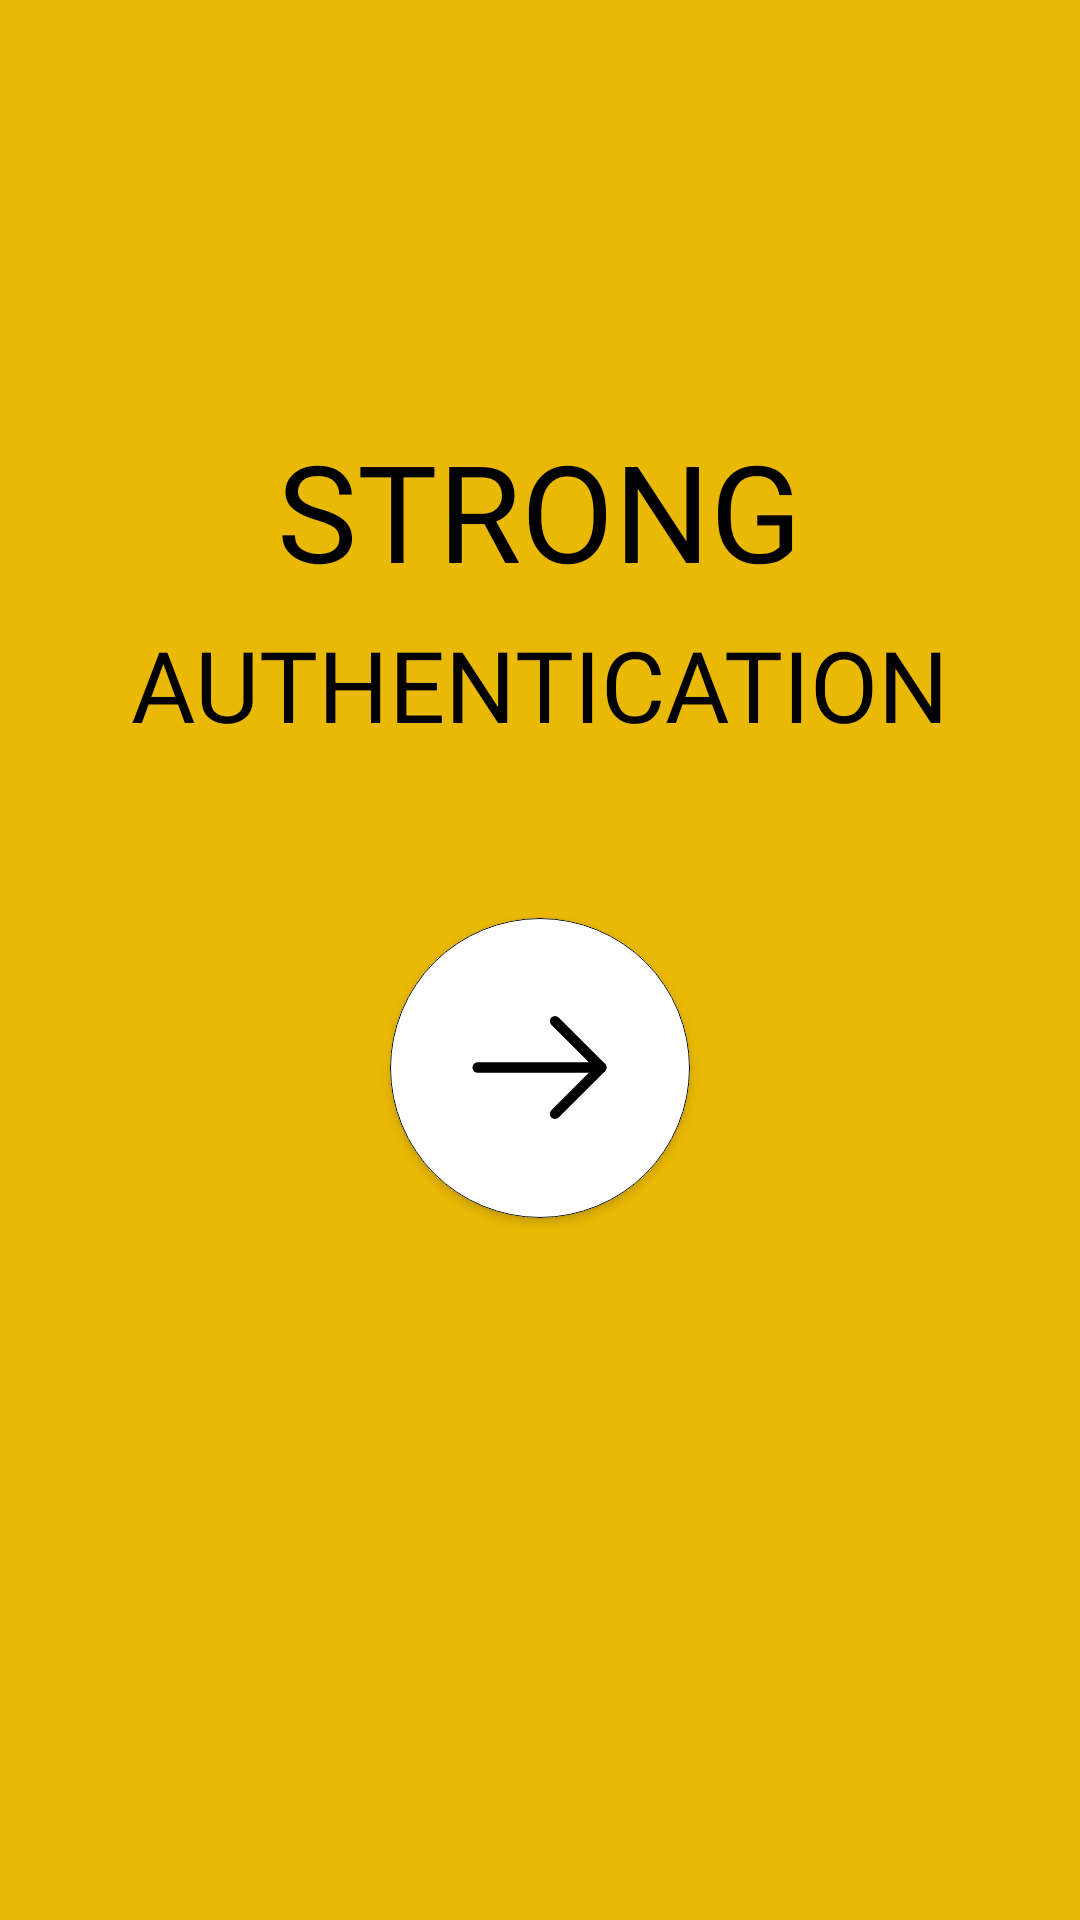

Named icons in this screenshot (1080 × 1920) and their centers, (x,y):
right: (539,1067)
